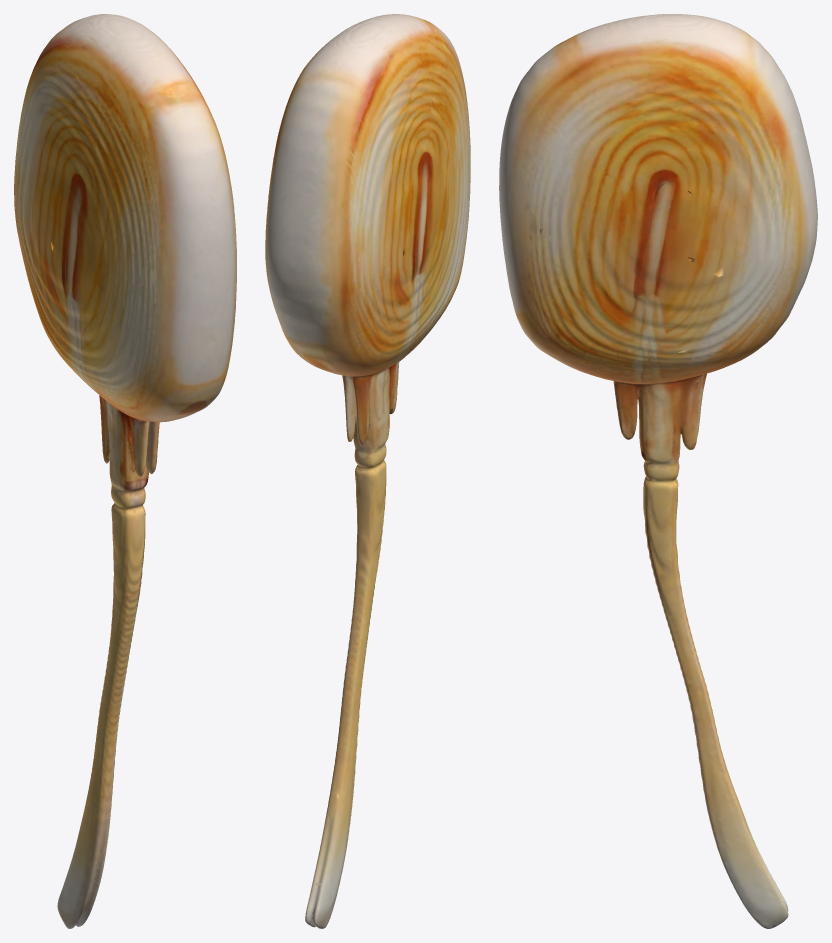
File: pacinian-corpuscle.glb
The picture shows the model from 3 angles, left to right: view 1: azimuth 30°, elevation 25°; view 2: azimuth 150°, elevation 25°; view 3: azimuth 270°, elevation 25°; orthographic projection. The views are drawn at different scales.
Visible parts, largest first — view 1: Object_4; view 2: Object_4; view 3: Object_4.
Boxes of the visible parts, box(x1,y1,x2,y2) form: Object_4: box(14, 14, 236, 928); Object_4: box(265, 14, 470, 928); Object_4: box(499, 14, 817, 928).
Bounding box in the file's own units: 0.2519 × 2 × 0.6356.
1 material, 1 textured.
